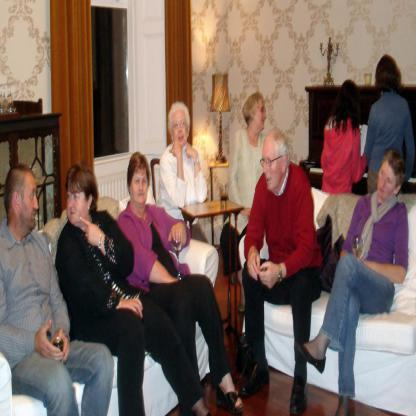face: (18, 176, 39, 229), (263, 140, 283, 190), (68, 182, 89, 224), (131, 169, 149, 204), (379, 163, 396, 200), (173, 111, 188, 146), (252, 100, 268, 129)
